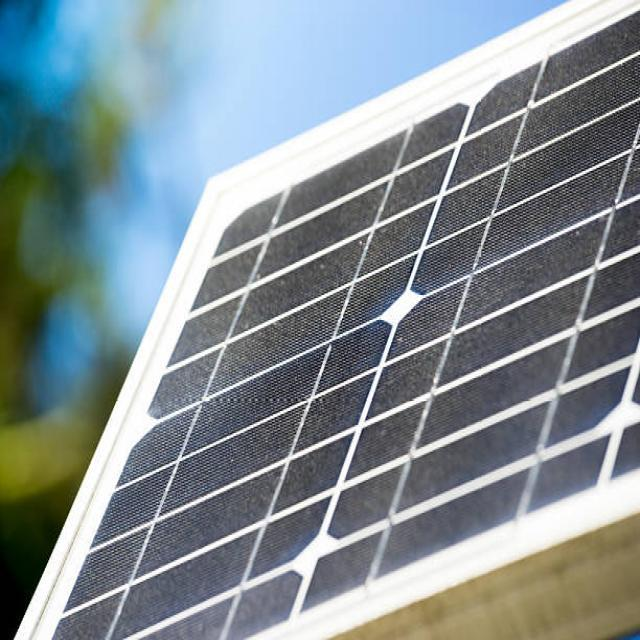no faulty: (16, 0, 640, 640)
